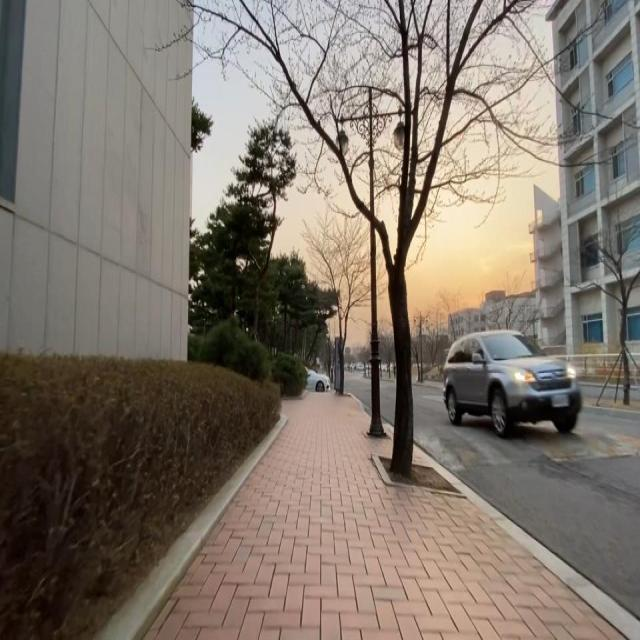sidewalk: (144, 393, 640, 640), (598, 399, 640, 411), (584, 398, 598, 407)
